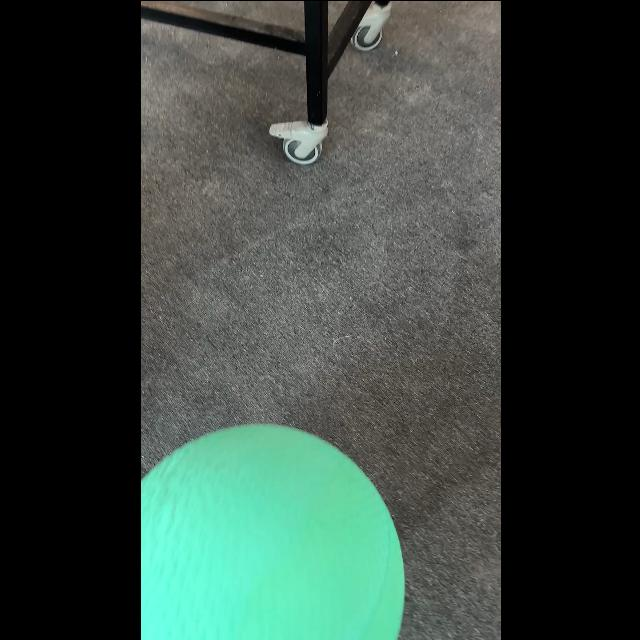ALGAE: (140, 422, 404, 638)
